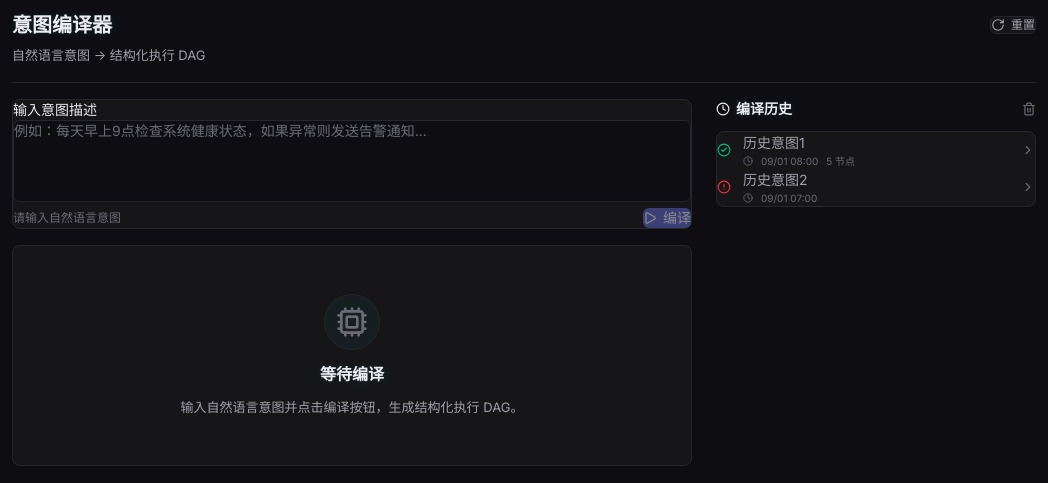
it: IntentCompiler › history › clears history when clear button is clicked
Check: the number of buttons with test id "history-item" is 2, box [717,132,1035,168]; [717,168,1035,206]
Click the button with test id "clear-history-btn" at (1029, 108), box [1022,102,1036,116]
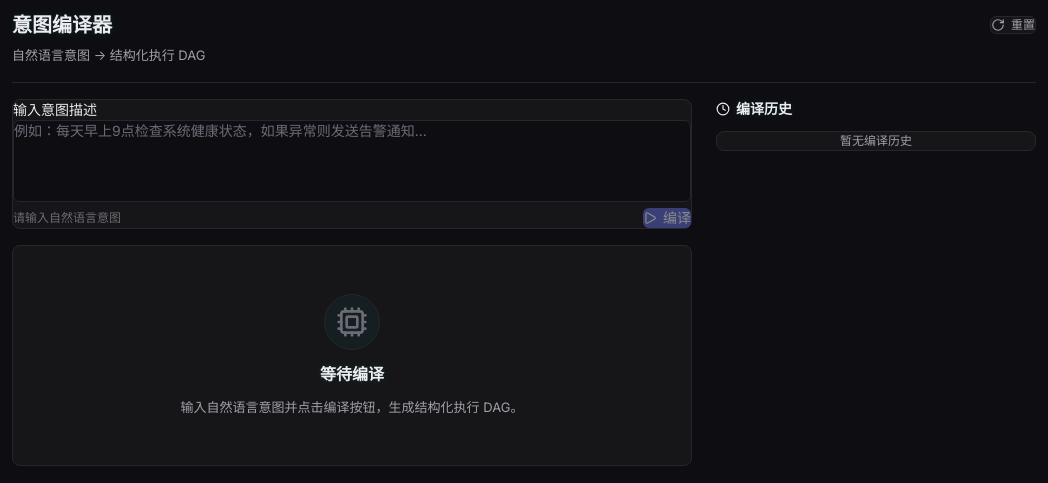
Check: the text "暂无编译历史" is shown, box [840,132,912,148]
